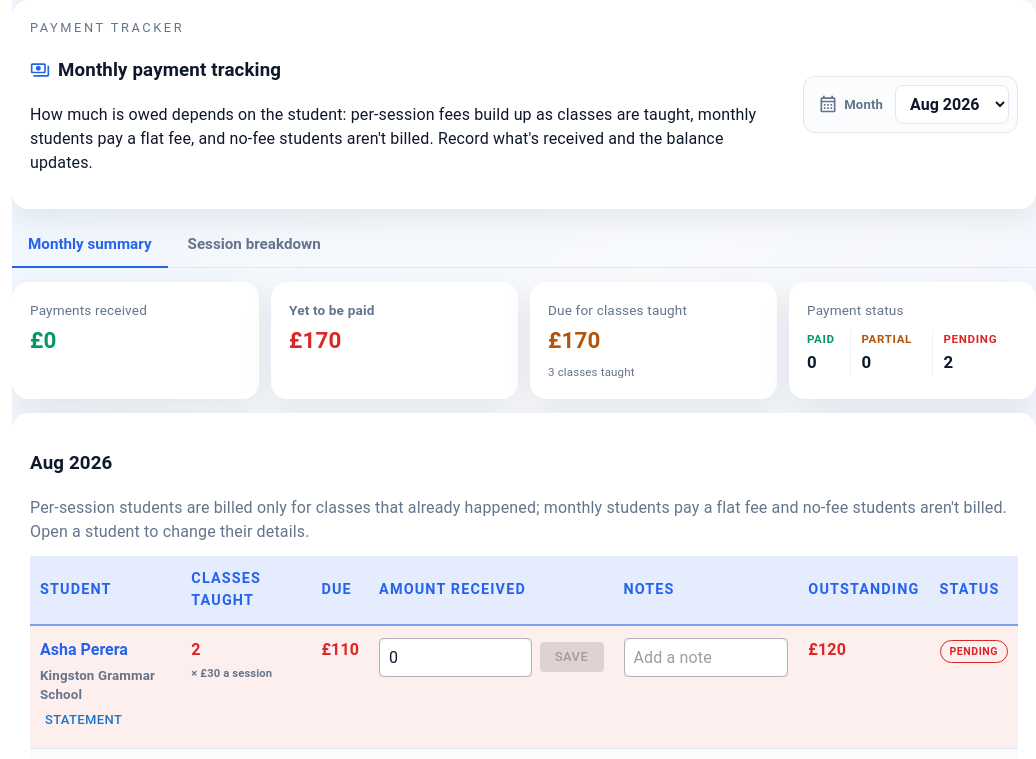
PaymentTrackerView session breakdown › filters to a single student (singular class label)
Click the tab "Session breakdown". click: click(254, 245)
box: [172,223,337,268]
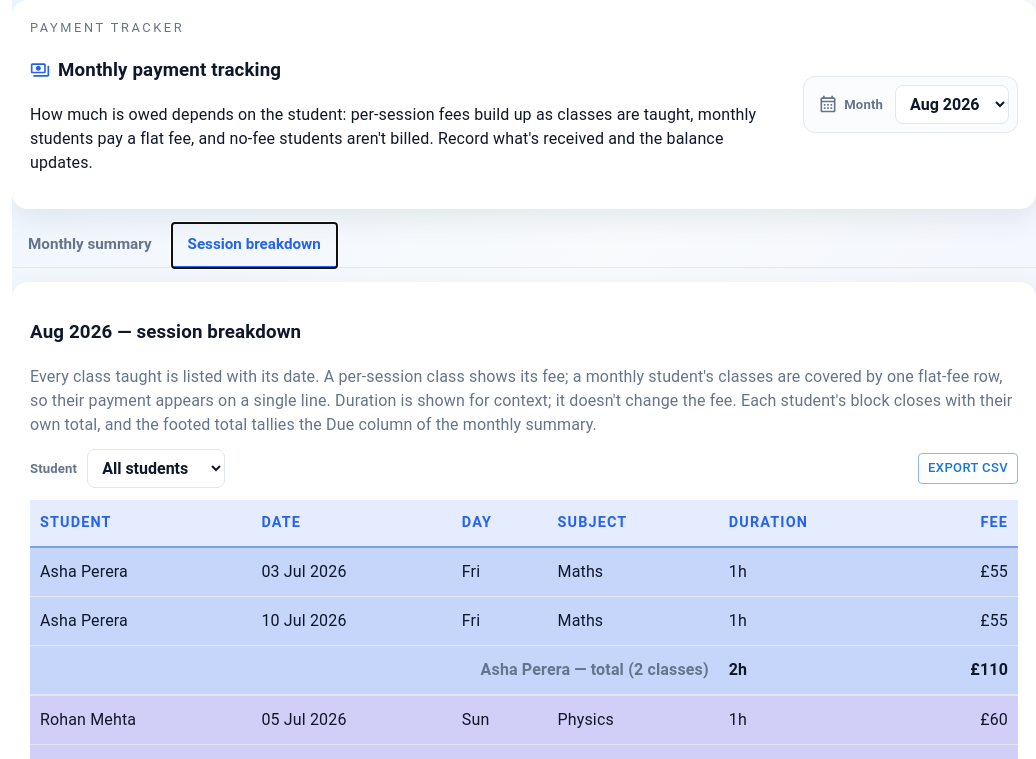
Check: the text "Rohan Mehta" is shown, box [30,695,252,744]
Check: the text "Asha Perera" is shown 2 times, box [30,547,252,596]; [30,596,252,645]
Select "Rohan Mehta" in the dropdown labelled "Student". click: (156, 468)
box: [87,449,225,488]
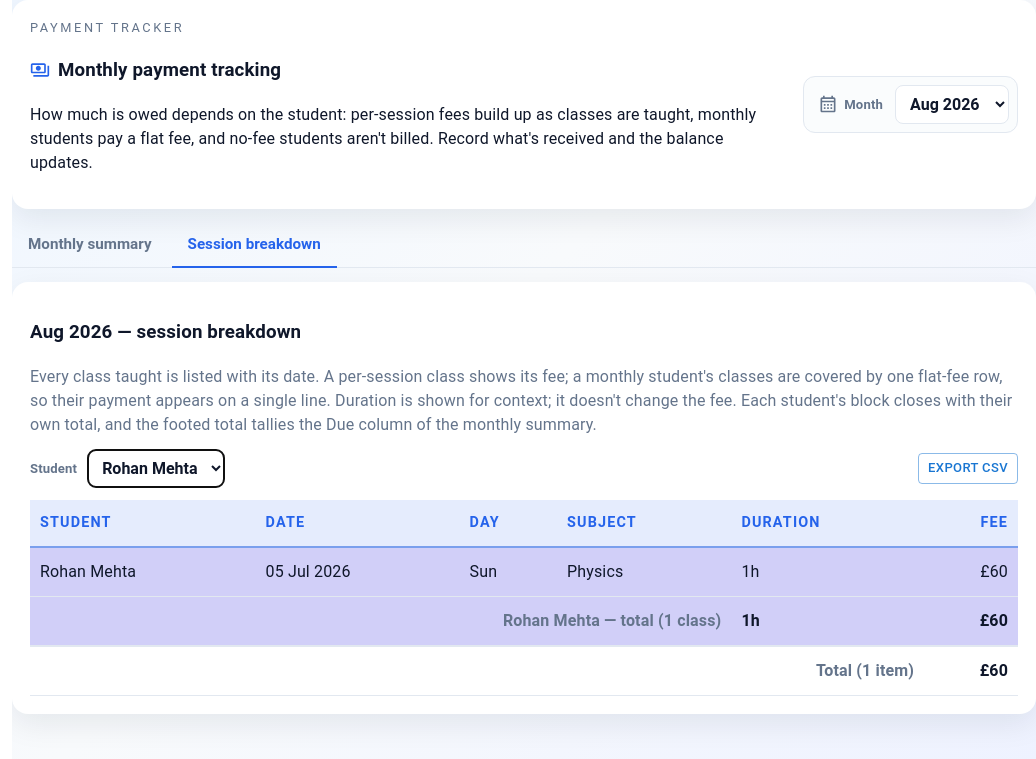
Check: the text "Rohan Mehta" is shown, box [30,547,256,596]
Check: the text "Asha Perera" is gone
Check: the text "Total (1 item)" is shown, box [30,646,924,695]
